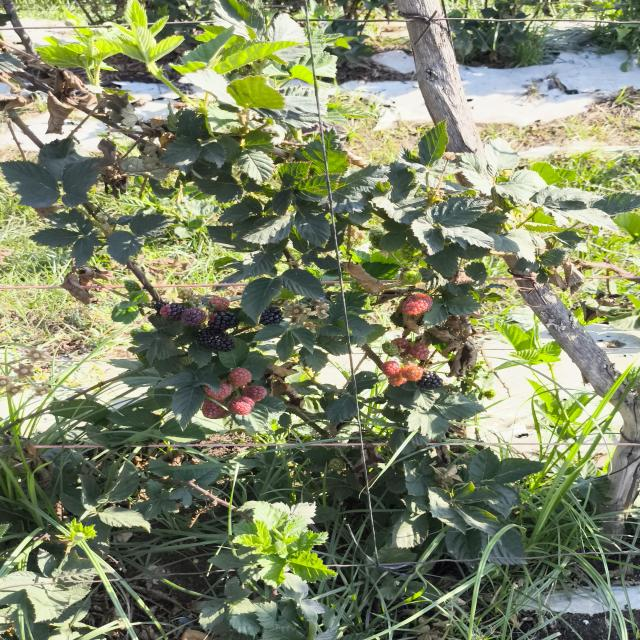maduro: (197, 328, 235, 352), (208, 311, 238, 332), (416, 371, 443, 389), (260, 307, 283, 325)
marron: (180, 308, 206, 327), (159, 303, 187, 320), (208, 296, 230, 313)
naranja: (403, 294, 432, 315), (201, 399, 230, 419), (205, 382, 233, 401), (229, 397, 255, 415), (229, 368, 252, 386), (242, 386, 267, 402), (400, 365, 424, 381), (391, 337, 411, 353), (410, 344, 429, 360), (381, 360, 401, 375), (388, 373, 407, 386)
